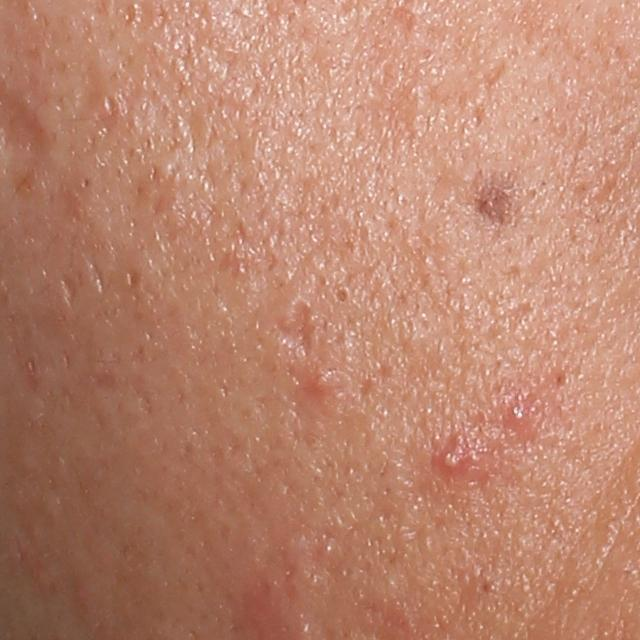atrophic_scar: (358, 65, 420, 154), (271, 298, 317, 360), (80, 259, 109, 311), (55, 274, 77, 309), (484, 60, 509, 88)
comedo: (468, 575, 500, 601), (328, 283, 353, 309)
nevus: (470, 175, 515, 234)
papule: (503, 398, 532, 429)
pustule: (435, 448, 470, 476)
